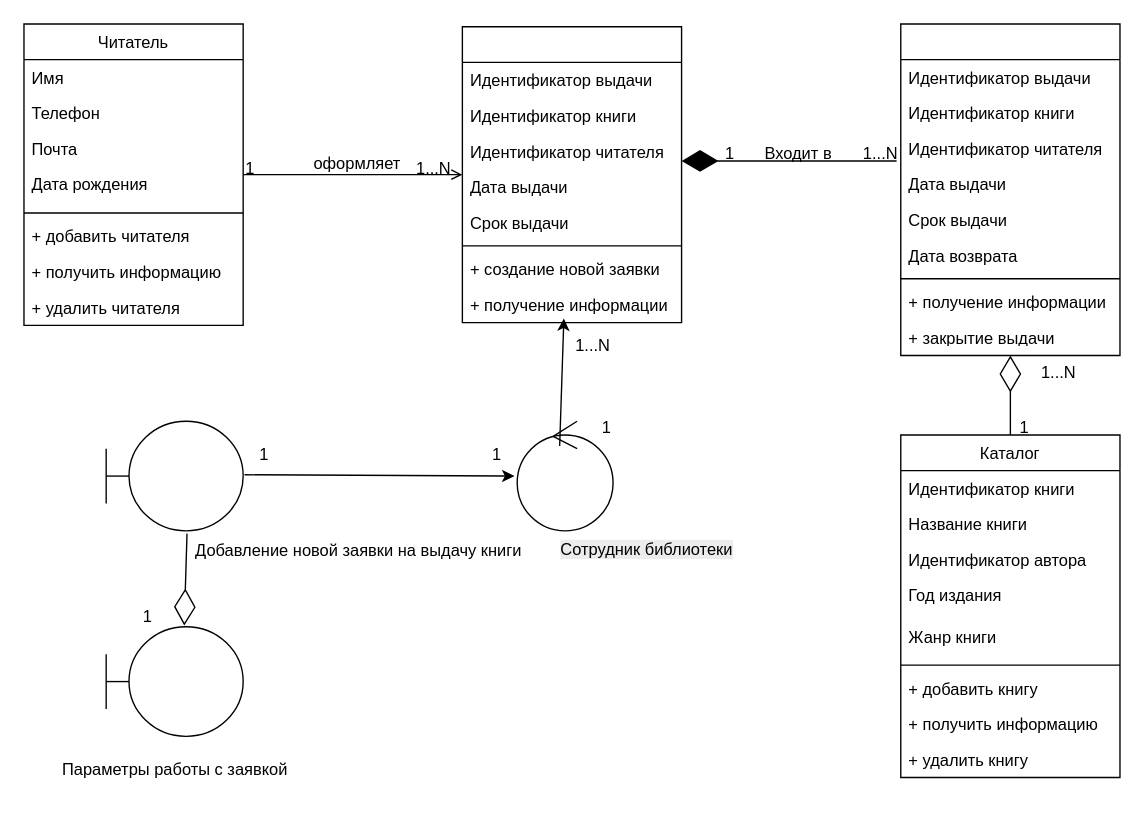
The diagram is 1144 pixels wide and 815 high, and some of its shapes have lost their labels. Each missing label, with the box of its shape:
Выдача книги: (899, 23, 1120, 356)
Заявка на выдачу книги: (461, 25, 682, 323)
